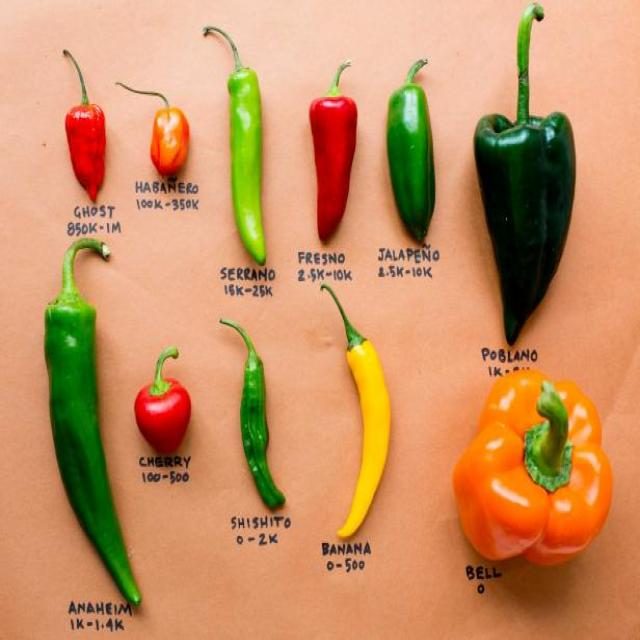Bell pepper: (455, 364, 613, 592)
Chilli Pepper: (29, 228, 161, 622), (462, 7, 592, 341), (306, 274, 398, 561), (196, 18, 285, 276), (213, 301, 297, 530), (288, 49, 369, 263), (113, 55, 196, 220), (383, 43, 447, 246), (126, 330, 200, 468), (52, 44, 110, 216)
